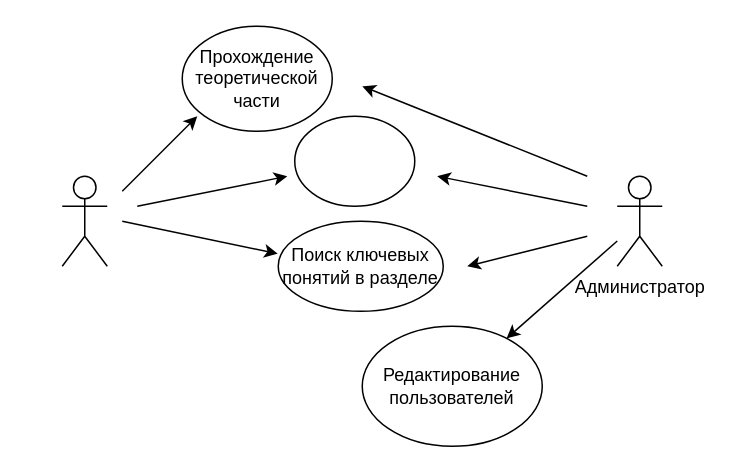
Image size: 731x473. Some labels were removed from this diagram. Here are the shapes that lost their labels. From the top down, the centre of each, then its label:
At point (354, 160): "Просмотр прогресса".
At point (84, 220): "Пользователь".
